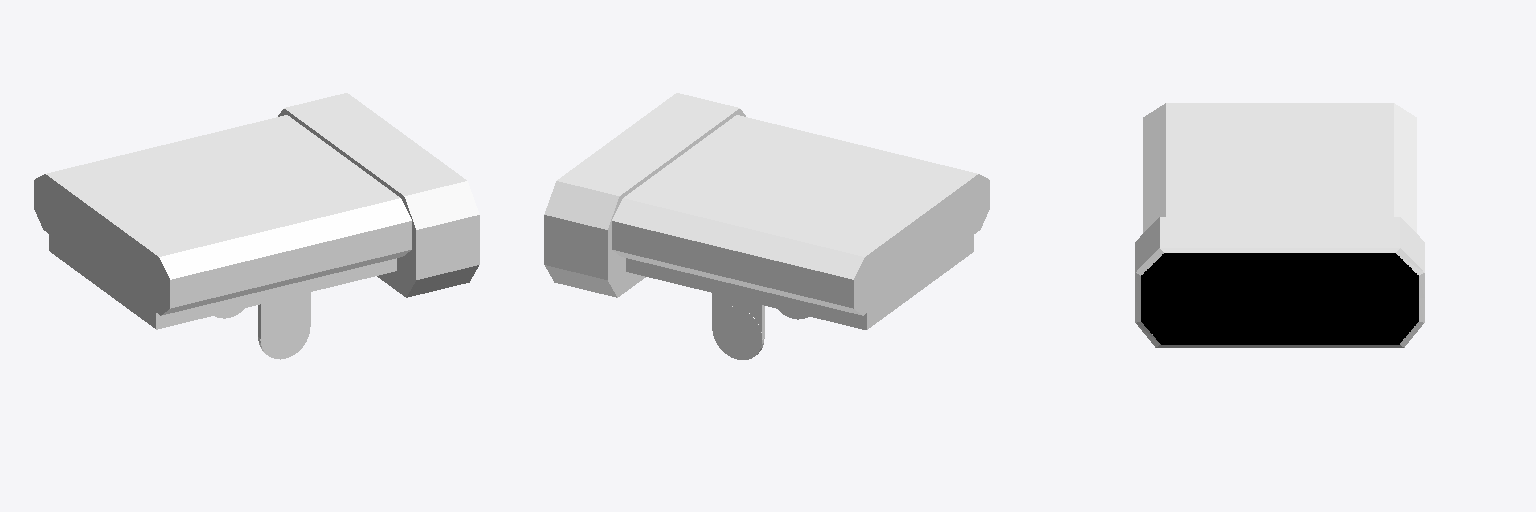
3 views of the same model, side by side, from view 1: azimuth 30°, elevation 25°; view 2: azimuth 150°, elevation 25°; view 3: azimuth 270°, elevation 25° (orthographic).
Visible parts, largest first — view 1: camera2_camera2.001; view 2: camera2_camera2.001; view 3: camera2_camera2.001.
Boxes of the visible parts, x1,y1,x2,y2 form: camera2_camera2.001: [34, 93, 479, 359]; camera2_camera2.001: [544, 93, 989, 359]; camera2_camera2.001: [1135, 103, 1424, 347].
Size of the model in its own units: 0.1264 by 0.0646 by 0.1029.
Materials: 1 (1 with a texture image).